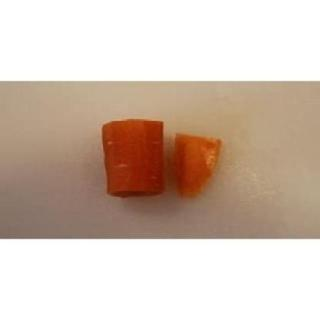carrot: (84, 106, 172, 209)
